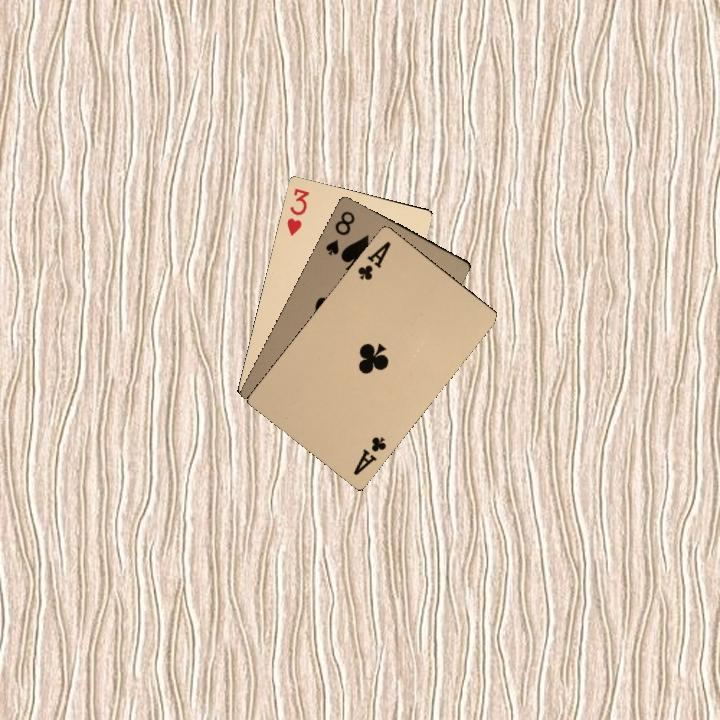3h: (283, 184, 312, 238)
8s: (321, 207, 357, 258)
Ac: (354, 237, 394, 283), (349, 432, 389, 478)
